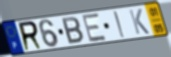6: (38, 19, 60, 49)
B: (60, 16, 85, 46)
E: (81, 12, 108, 44)
I: (112, 10, 127, 39)
K: (128, 8, 151, 36)
R: (17, 19, 44, 53)
